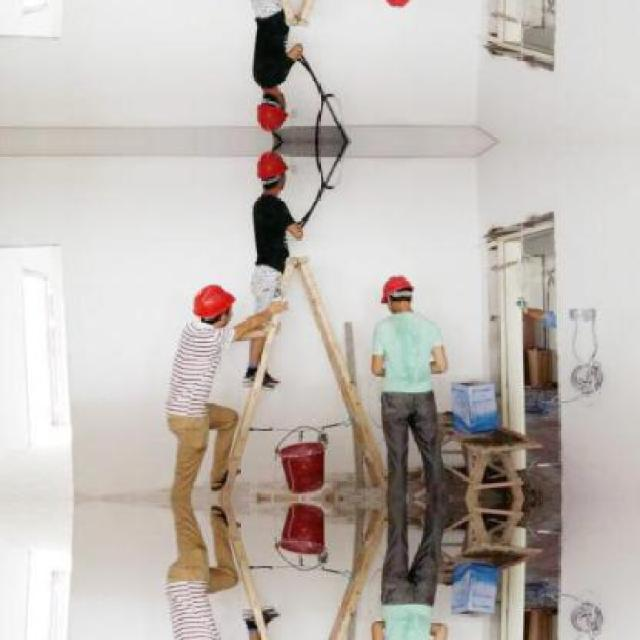helmet: (192, 280, 233, 329), (253, 144, 289, 198), (253, 82, 289, 136), (378, 272, 416, 316), (378, 0, 417, 9)
